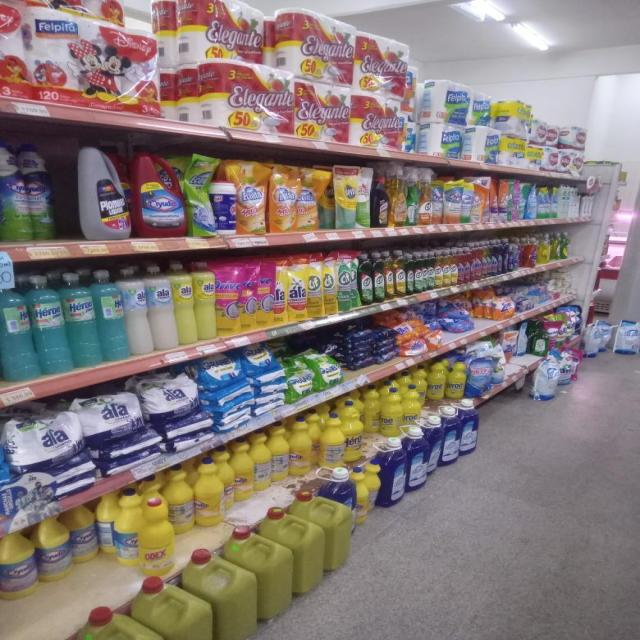ala_conc_rojo: (472, 245, 480, 282)
ala_crem_amarillo: (174, 263, 195, 346), (195, 261, 215, 341)
ala_crem_blanco: (125, 266, 150, 357), (149, 264, 174, 351)
ala_sachet_amarillo: (258, 256, 280, 326), (288, 255, 307, 321), (273, 256, 287, 326)
cif_conc_bot_amarilla: (384, 251, 394, 300), (395, 251, 405, 297), (444, 250, 454, 287), (434, 250, 442, 290), (450, 249, 457, 286)
cif_conc_botella_verde: (360, 252, 372, 306), (373, 252, 384, 302), (406, 252, 414, 295), (416, 252, 424, 293), (426, 251, 434, 291)
cif_conc_sachet_amarillo: (308, 253, 323, 318), (324, 252, 337, 315)
cif_conc_sachet_verde: (338, 250, 356, 312)
heroe: (33, 274, 66, 376), (66, 271, 97, 369), (98, 268, 124, 362)
